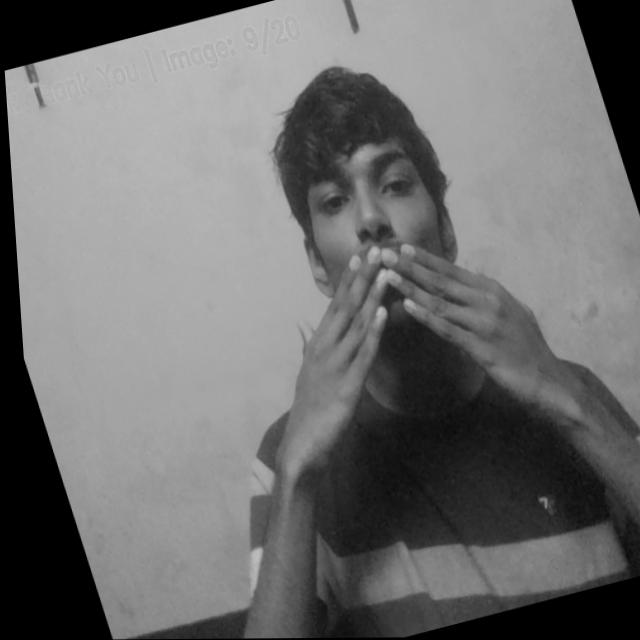Thank You: (232, 205, 579, 492)
